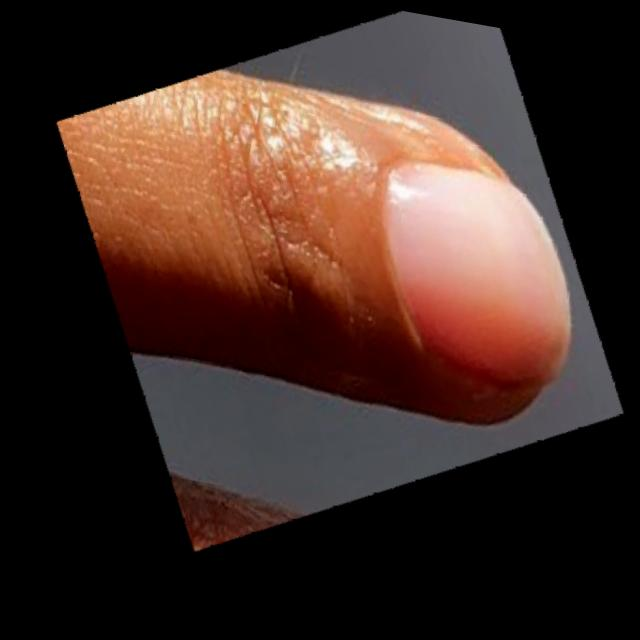Nail: (385, 162, 570, 382)
